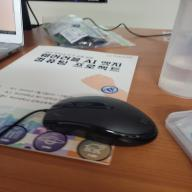mouse: (36, 86, 167, 154)
